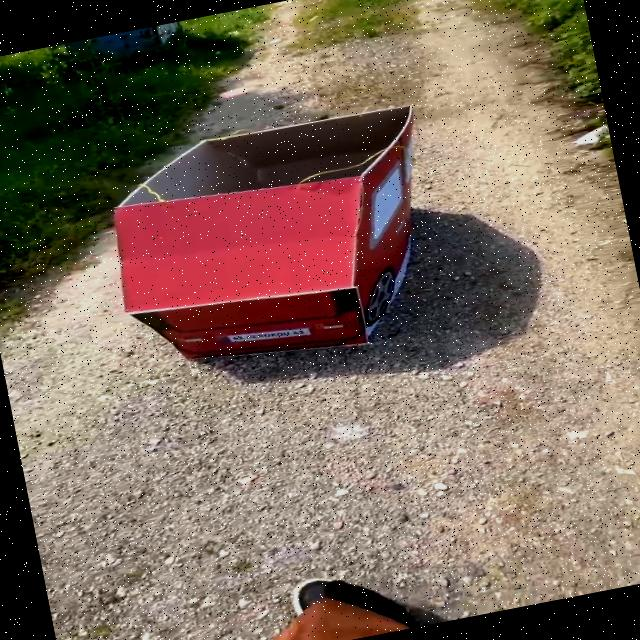red_car: (67, 72, 469, 418)
